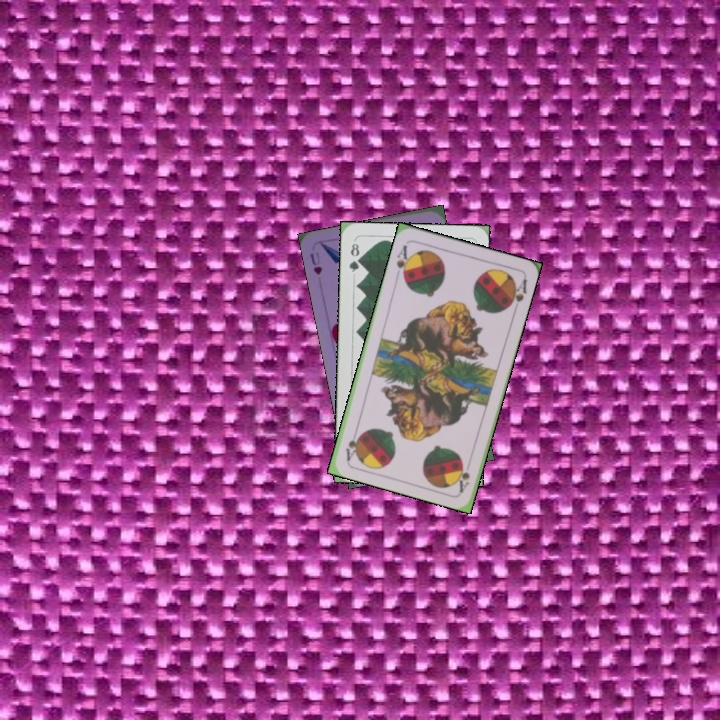G8: (345, 237, 363, 274)
HU: (306, 248, 325, 278)
SA: (392, 241, 414, 281), (454, 459, 473, 494)
